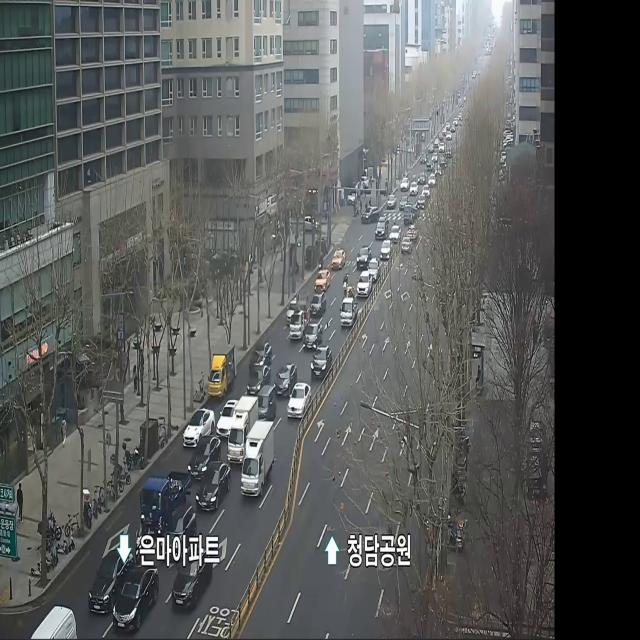bus: (135, 515, 149, 561), (318, 252, 324, 269)
motorcycle: (111, 560, 162, 637), (84, 545, 136, 617), (139, 470, 194, 536), (241, 419, 276, 501), (225, 396, 259, 470), (171, 553, 210, 611), (26, 604, 79, 640), (198, 462, 230, 514), (163, 508, 196, 554), (208, 344, 236, 396), (183, 407, 215, 436), (216, 399, 238, 438), (190, 438, 220, 466), (289, 383, 310, 419), (312, 346, 330, 383), (341, 288, 357, 327), (277, 362, 296, 392), (259, 388, 277, 419), (304, 320, 322, 346), (358, 270, 372, 302), (250, 342, 271, 362), (249, 368, 270, 388), (310, 293, 326, 316), (316, 270, 332, 292), (332, 247, 345, 272), (368, 257, 380, 281), (362, 206, 378, 222), (377, 218, 388, 240), (356, 247, 368, 267), (381, 240, 391, 260), (402, 237, 412, 255), (390, 225, 400, 242), (408, 225, 418, 242), (400, 177, 410, 193), (398, 196, 409, 210), (387, 194, 396, 210), (342, 271, 350, 288), (410, 182, 419, 196), (416, 196, 426, 207), (423, 185, 431, 197)
truck: (291, 301, 307, 339), (403, 206, 418, 225)
